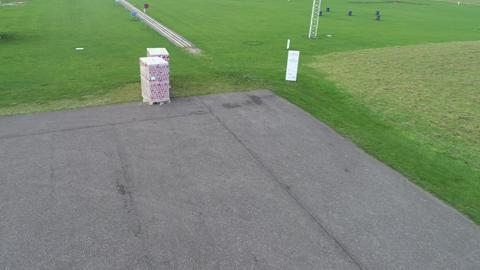RockwoolPallet: (147, 46, 169, 63)
